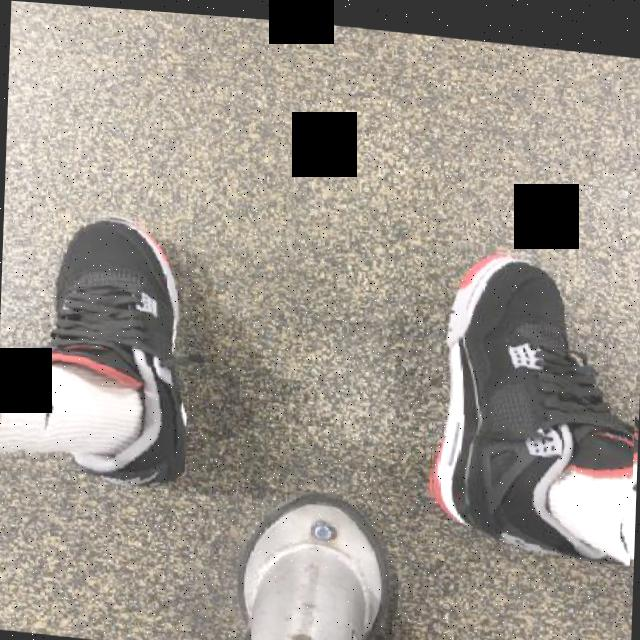shoe: (425, 233, 640, 556), (5, 204, 193, 495)
